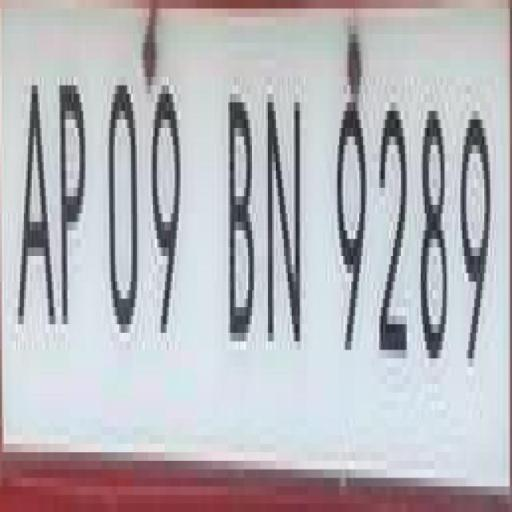number plate: (21, 0, 512, 486)
